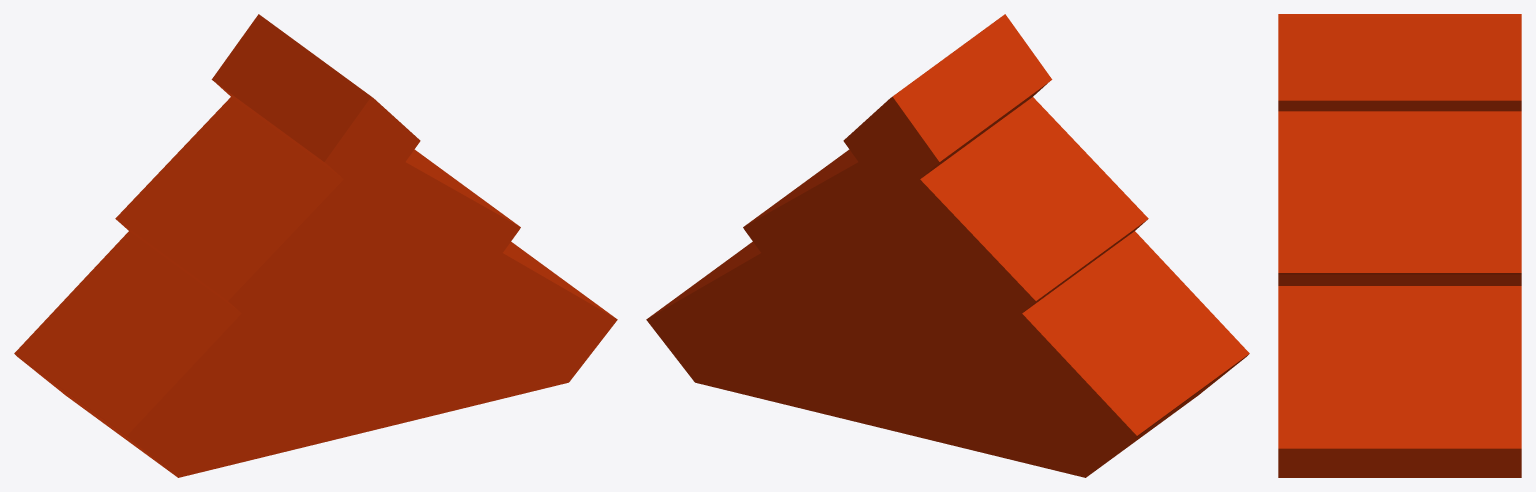
File: Building_Modular_Roof_Piece_05.fbx
The picture shows the model from 3 angles, left to right: view 1: azimuth 30°, elevation 25°; view 2: azimuth 150°, elevation 25°; view 3: azimuth 270°, elevation 25°; orthographic projection. The views are drawn at different scales.
Visible parts, largest first — view 1: Model; view 2: Model; view 3: Model.
Boxes of the visible parts, x1,y1,x2,y2 form: Model: (14,14,617,477); Model: (646,14,1249,477); Model: (1278,14,1521,477).
Size of the model in its own units: 267 by 174 by 106.
